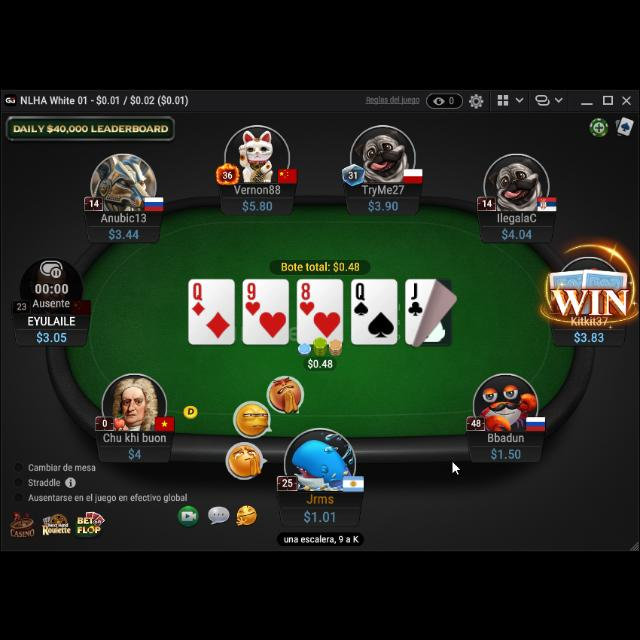8h: (298, 279, 316, 315)
9h: (243, 279, 260, 313)
Jc: (406, 280, 424, 318)
Qd: (190, 280, 206, 314)
Qs: (352, 281, 370, 317)
bet_text: (306, 354, 334, 368)
card_back: (580, 264, 630, 300), (546, 266, 590, 302), (548, 266, 590, 300)
dealer: (182, 400, 198, 418)
pot_text: (280, 258, 360, 272)
stack_text: (107, 223, 141, 239), (302, 506, 336, 522), (34, 327, 68, 341), (241, 197, 275, 211), (501, 225, 534, 239), (366, 197, 399, 211), (490, 444, 522, 458), (573, 328, 605, 342), (128, 443, 142, 457)
